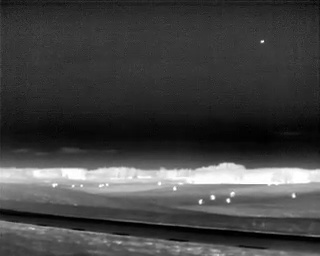BIRD: (258, 37, 266, 46)
